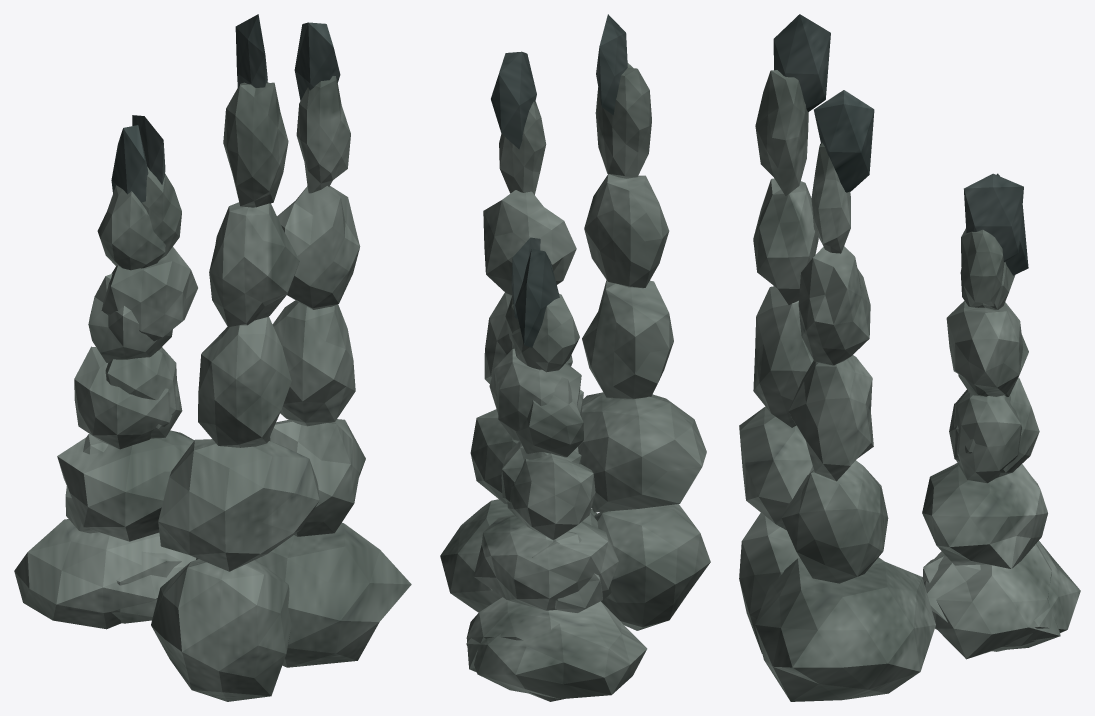
File: 0065_rock_spire_15.glb
3 renders of one model, left to right at view 1: azimuth 30°, elevation 25°; view 2: azimuth 150°, elevation 25°; view 3: azimuth 270°, elevation 25°, orthographic. The views are drawn at different scales.
Parts seen in each view (by area): view 1: stone, stone_dark; view 2: stone, stone_dark; view 3: stone, stone_dark.
Part boxes in pixels (x1=…): stone: x1=14, y1=76, x2=411, y2=701; stone_dark: x1=111, y1=14, x2=340, y2=203; stone: x1=440, y1=63, x2=710, y2=701; stone_dark: x1=491, y1=14, x2=627, y2=347; stone: x1=739, y1=70, x2=1080, y2=701; stone_dark: x1=773, y1=14, x2=1028, y2=275.
Size of the model in its own units: 1.22 by 2.86 by 1.35.
2 materials, 2 textured.
